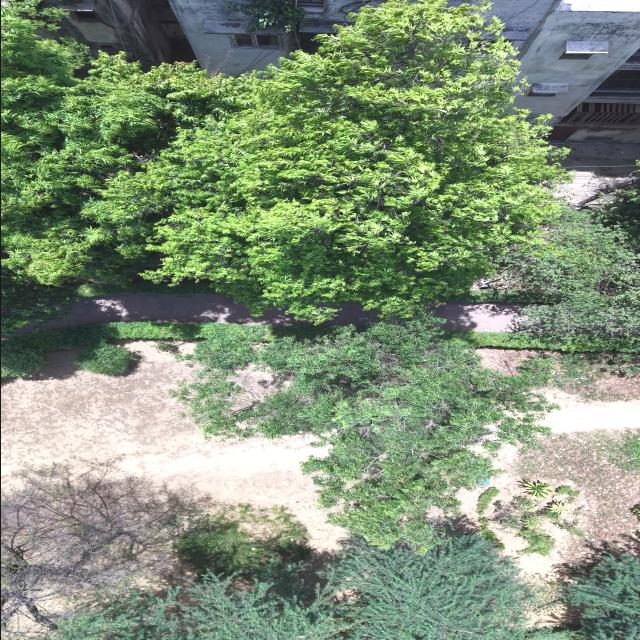DRY_AREA: (1, 340, 347, 552), (1, 341, 345, 551), (1, 341, 344, 550), (452, 375, 639, 581), (451, 423, 639, 601), (491, 428, 639, 576), (48, 293, 311, 327), (564, 354, 639, 400)
VEGETATION_TREE: (1, 0, 639, 639), (1, 0, 563, 328), (5, 318, 638, 550), (145, 0, 561, 318), (171, 319, 638, 551), (3, 469, 581, 639), (4, 470, 532, 639), (171, 320, 551, 551), (1, 1, 241, 333), (1, 8, 245, 284), (1, 2, 197, 333), (50, 535, 639, 639), (50, 516, 531, 639), (1, 465, 311, 639), (52, 536, 528, 639), (51, 505, 333, 639), (459, 189, 639, 373), (1, 463, 186, 639), (472, 183, 639, 350), (51, 563, 349, 639), (326, 536, 527, 639), (1, 321, 339, 375), (511, 428, 639, 559), (1, 321, 251, 375), (448, 331, 639, 400), (1, 321, 225, 375), (1, 321, 224, 374), (1, 321, 211, 375), (173, 504, 309, 575), (518, 427, 639, 483), (489, 485, 583, 554), (566, 553, 639, 639), (12, 321, 217, 350), (1, 324, 112, 376), (1, 266, 78, 335), (547, 350, 639, 400), (490, 496, 556, 554), (465, 330, 639, 352), (226, 0, 305, 30), (75, 342, 138, 375), (77, 281, 213, 296), (103, 321, 216, 339), (490, 496, 543, 530), (1, 339, 49, 376), (477, 486, 504, 549), (609, 431, 639, 471), (609, 431, 639, 470), (518, 527, 555, 555), (520, 626, 585, 639), (479, 516, 504, 549), (476, 486, 499, 515), (519, 479, 552, 498), (625, 433, 639, 469), (555, 520, 585, 536), (545, 499, 570, 516), (555, 485, 579, 496), (629, 503, 639, 520)
